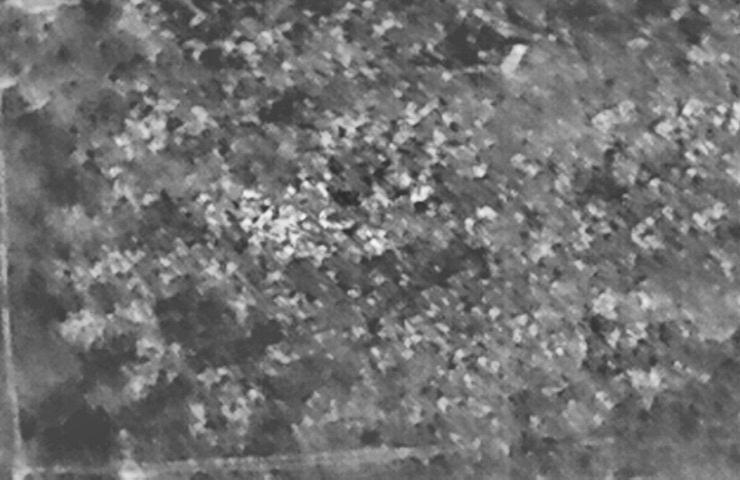landmines: (241, 190, 313, 256)
